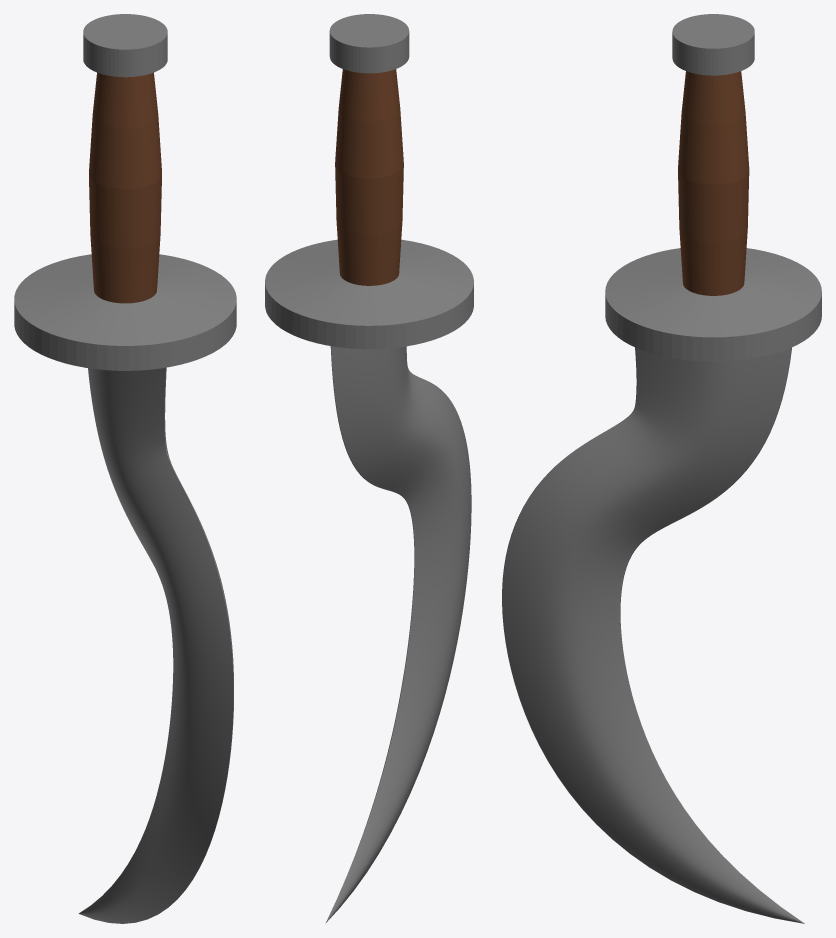
The model's file is sickle.fbx.
The picture shows the model from 3 angles, left to right: view 1: azimuth 30°, elevation 25°; view 2: azimuth 150°, elevation 25°; view 3: azimuth 270°, elevation 25°; orthographic projection. The views are drawn at different scales.
Parts seen in each view (by area): view 1: Cylinder, NurbsPath; view 2: Cylinder, NurbsPath; view 3: NurbsPath, Cylinder.
Part boxes in pixels (x1,y1,x2,y2): Cylinder: [14, 14, 236, 370]; NurbsPath: [78, 367, 233, 923]; Cylinder: [265, 14, 473, 349]; NurbsPath: [325, 346, 471, 923]; NurbsPath: [502, 347, 804, 923]; Cylinder: [605, 14, 821, 361].
Size of the model in its own units: 117 by 530 by 172.
